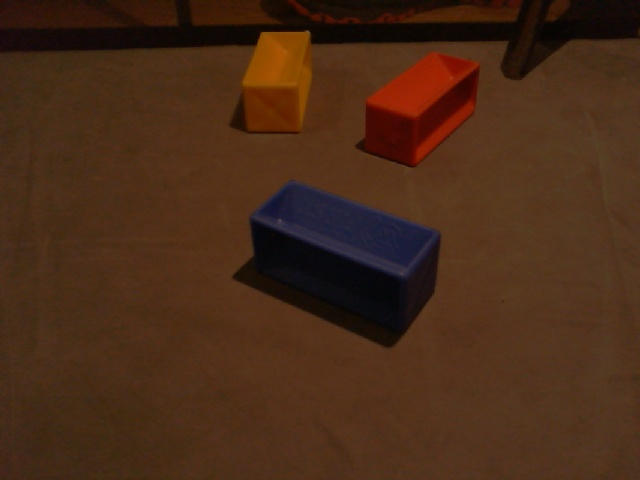BlueSample: (247, 178, 440, 335)
RedSample: (362, 50, 484, 171)
YellowSample: (239, 29, 317, 139)
